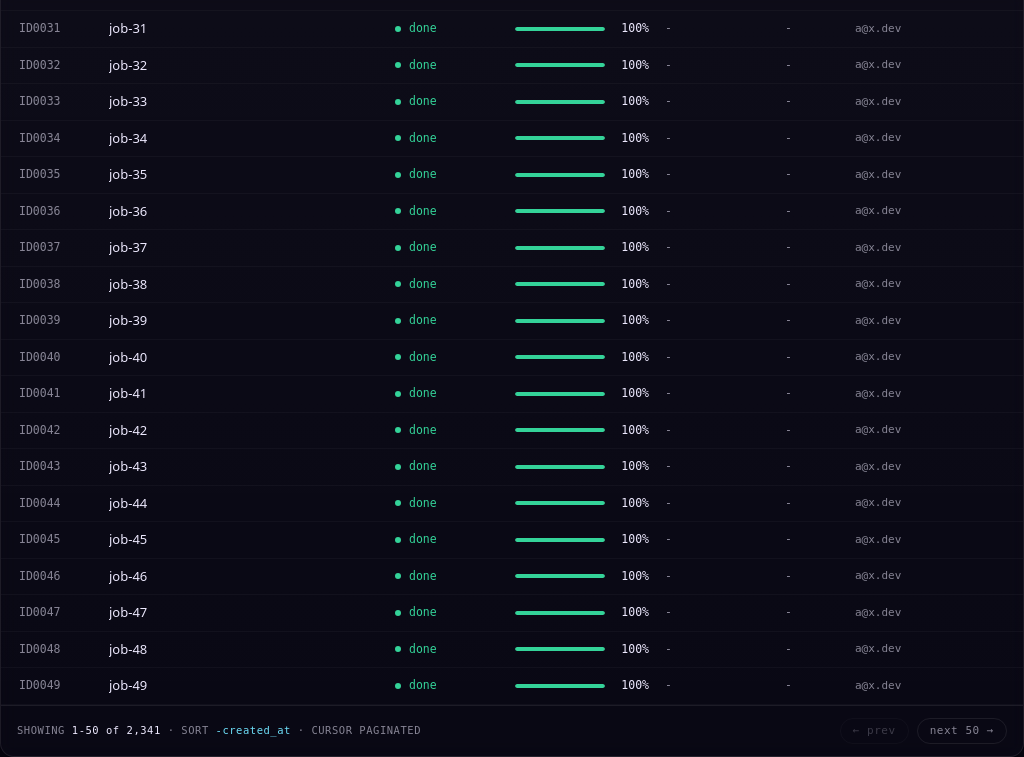
Test: pagination footer restores prior range when paging back
(page scrolled)
Check: the text "1-50 of 2,341" is shown, box [72, 724, 161, 736]
Click the button "next 50 →" at [962, 731], box [917, 718, 1007, 744]
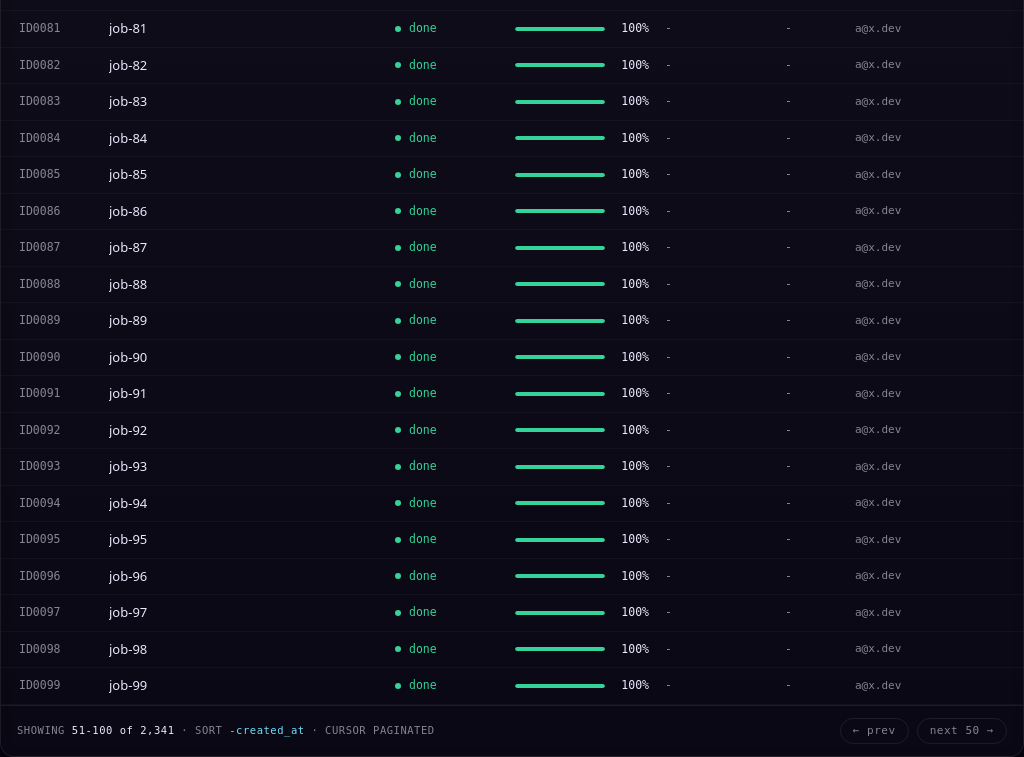
Check: the text "51-100 of 2,341" is shown, box [72, 724, 174, 736]
Click the button "← prev" at [874, 731], box [840, 718, 909, 744]
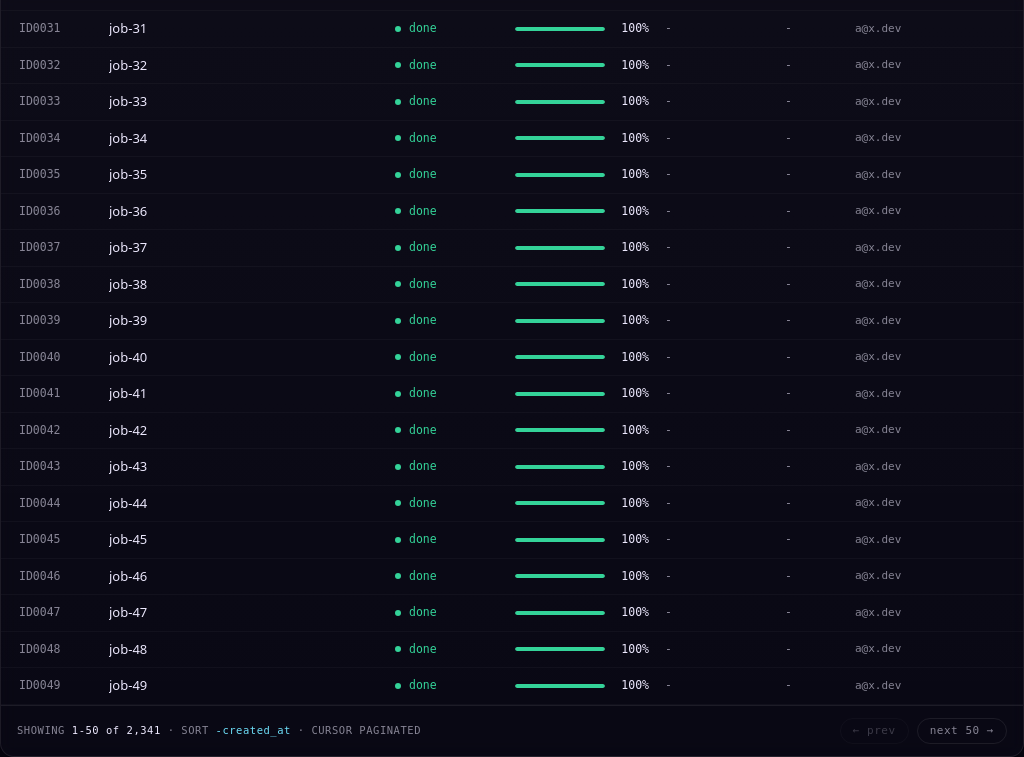
Check: the text "1-50 of 2,341" is shown, box [72, 724, 161, 736]
